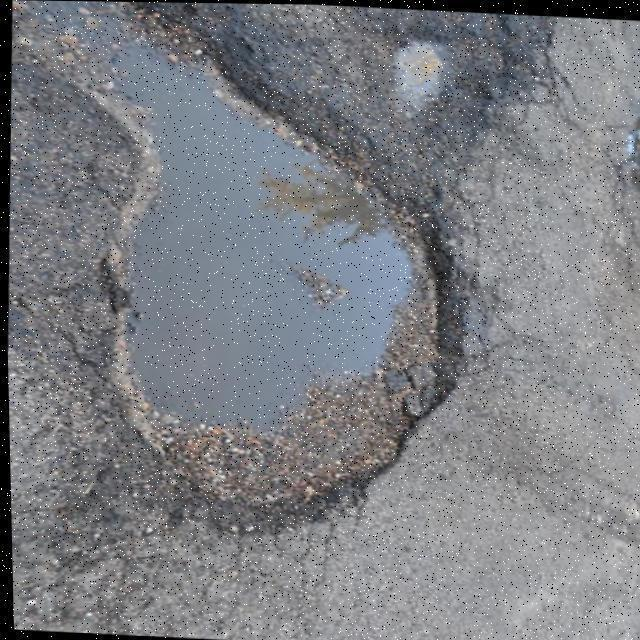Pothole: (11, 0, 450, 542), (395, 12, 520, 137), (626, 67, 640, 234)
